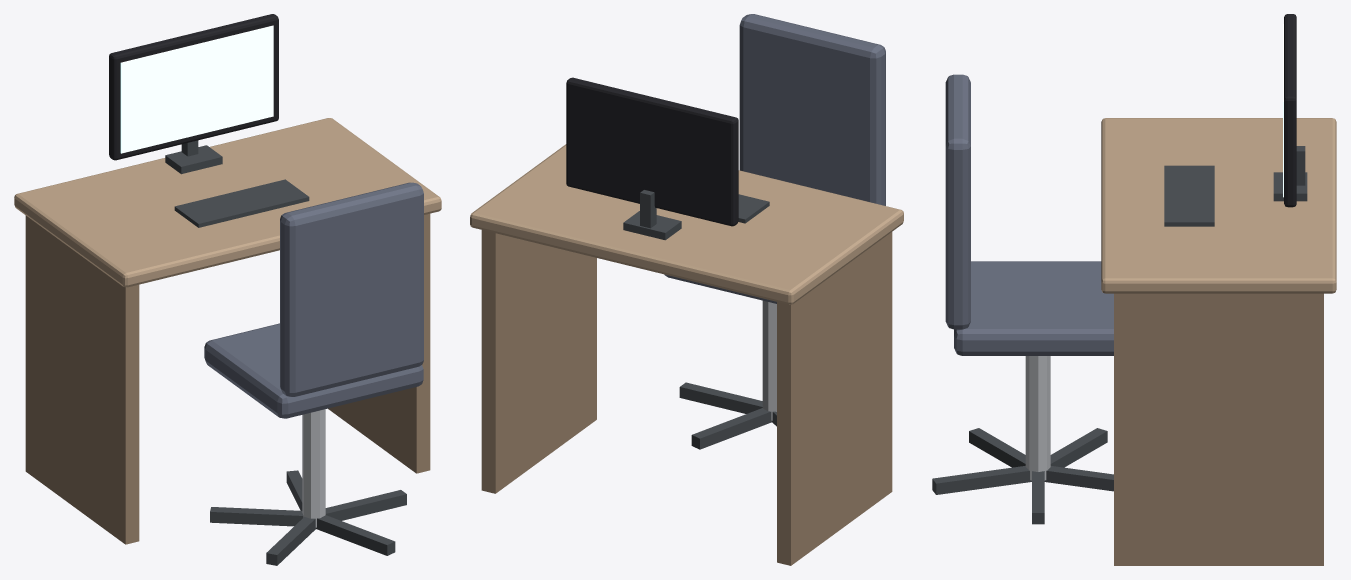
File: desk.fbx
3 views of the same model, side by side, from view 1: azimuth 30°, elevation 25°; view 2: azimuth 150°, elevation 25°; view 3: azimuth 270°, elevation 25° (orthographic). The views are drawn at different scales.
Parts seen in each view (by area): view 1: desk; view 2: desk; view 3: desk.
Part boxes in pixels (<box>): desk: <box>14,14,441,565</box>; desk: <box>470,14,903,565</box>; desk: <box>932,14,1336,565</box>.
Bounding box in the file's own units: 0.92 × 1.13 × 0.9619.
